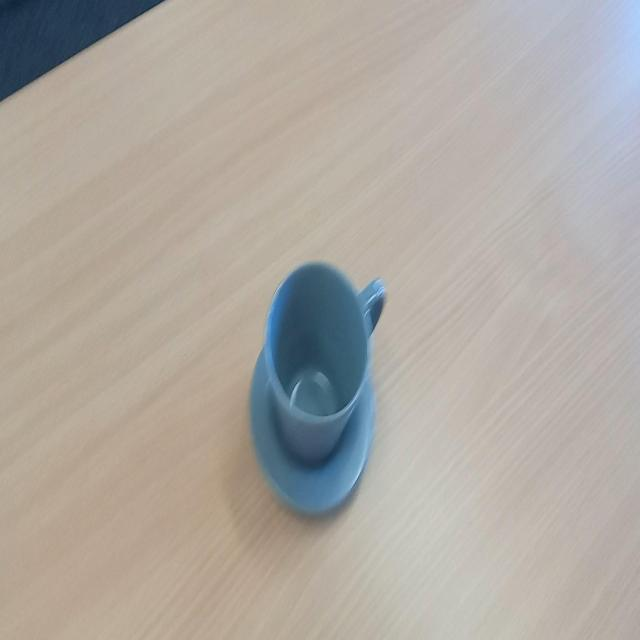cup: (266, 260, 387, 460)
